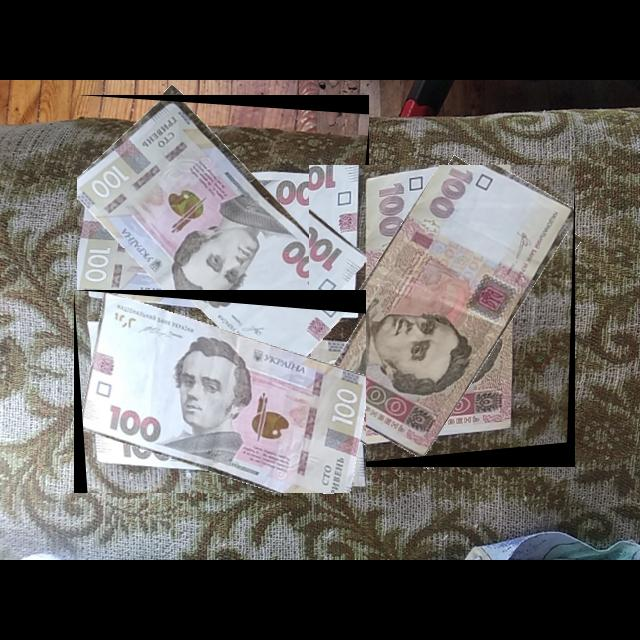100uah: (309, 165, 574, 459), (77, 100, 358, 367), (82, 293, 367, 494)
